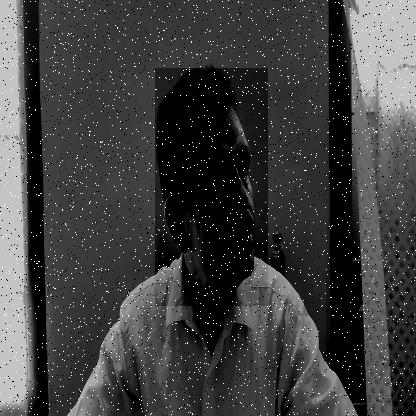Distracted: (155, 68, 268, 306)
